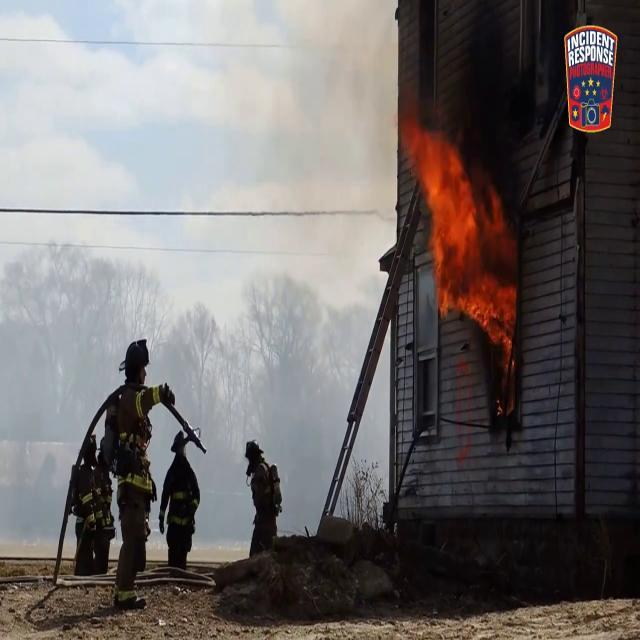Fire: (407, 115, 519, 373)
Smoke: (173, 4, 410, 420)
